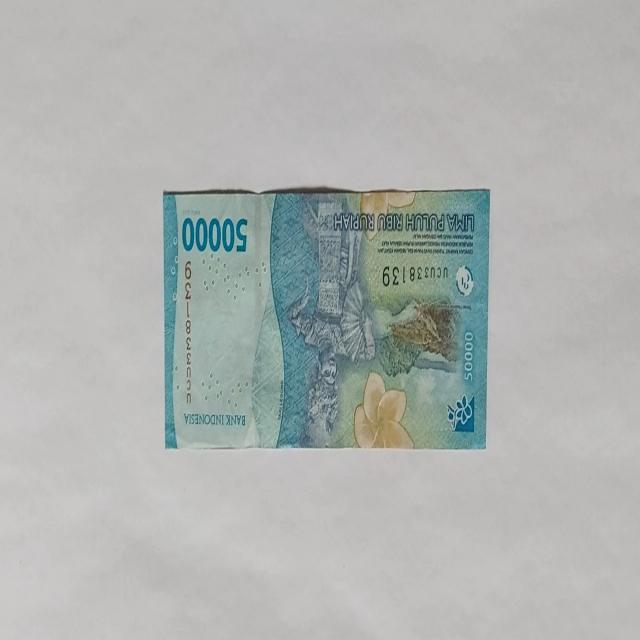lima puluh ribu rupiah: (162, 186, 490, 450), (180, 212, 248, 255)
